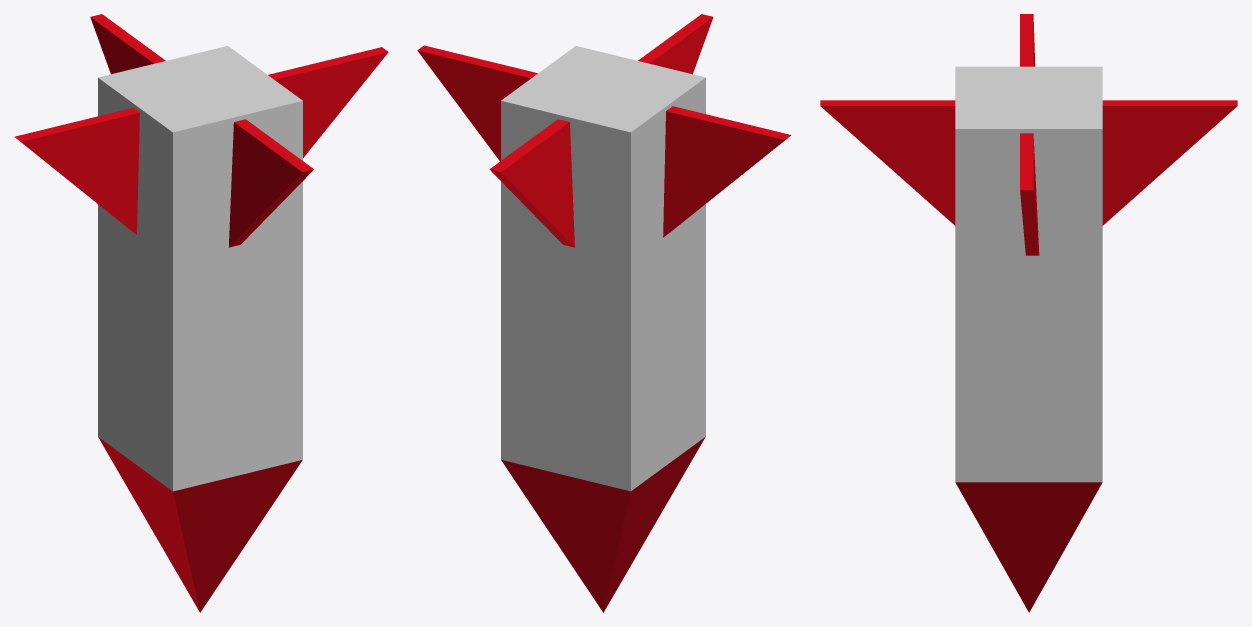
Rendered from rocket.dae.
The picture shows the model from 3 angles, left to right: view 1: azimuth 30°, elevation 25°; view 2: azimuth 150°, elevation 25°; view 3: azimuth 270°, elevation 25°; orthographic projection.
Visible parts, largest first — view 1: Rocket; view 2: Rocket; view 3: Rocket.
Boxes of the visible parts, bbox=[...] form: Rocket: bbox=[14, 14, 388, 612]; Rocket: bbox=[417, 14, 791, 612]; Rocket: bbox=[820, 14, 1237, 612].
Bounding box in the file's own units: 2.83 × 2.83 × 3.85.
